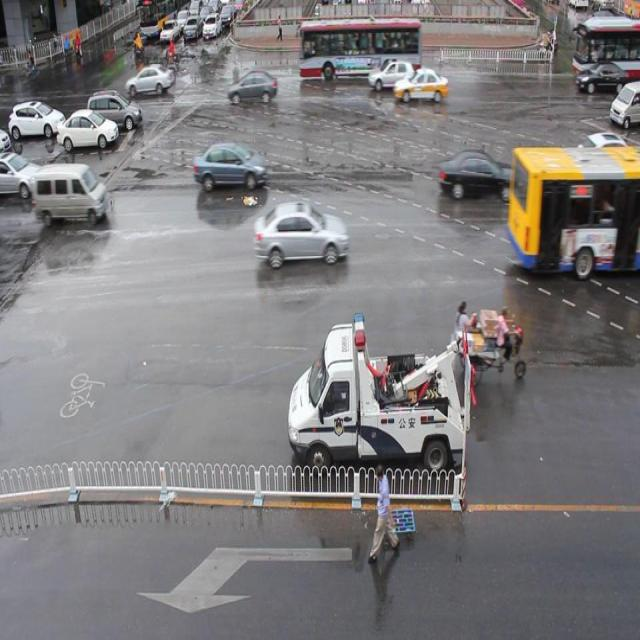car: (253, 202, 348, 266), (438, 148, 516, 199), (192, 141, 266, 191), (570, 131, 640, 173), (392, 64, 448, 105), (227, 70, 278, 105), (367, 59, 415, 92)
truck: (31, 162, 108, 223)
van: (508, 146, 640, 271), (297, 17, 421, 80)
